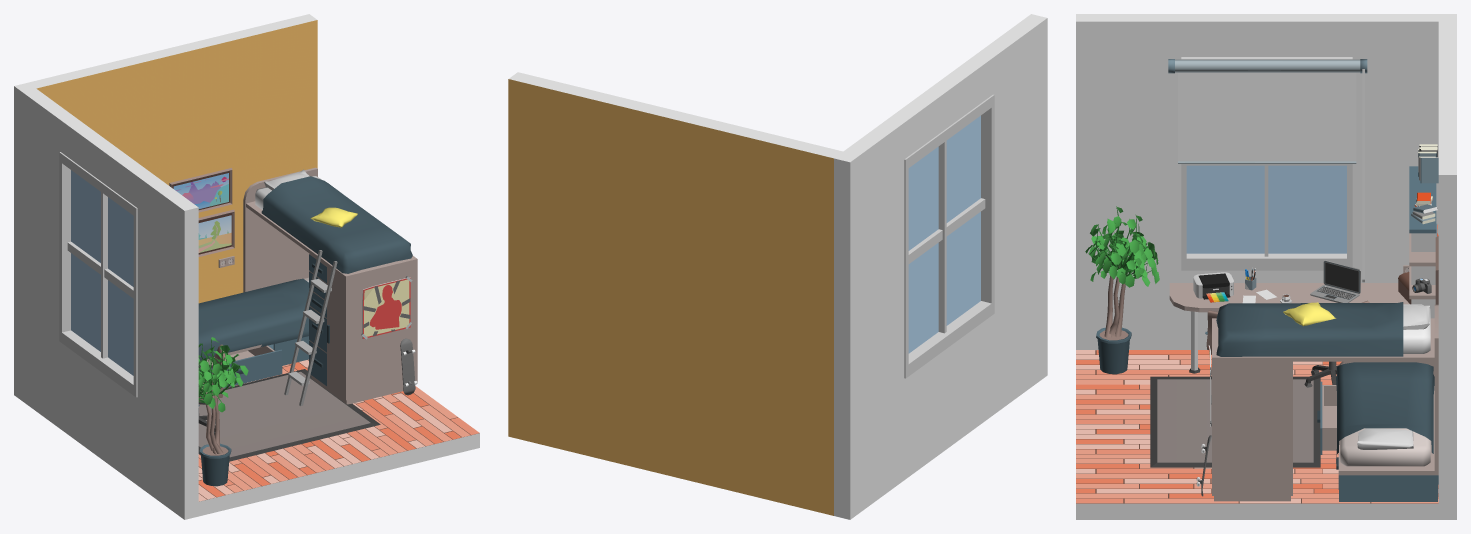
File: room_17.glb
3 views of the same model, side by side, from view 1: azimuth 30°, elevation 25°; view 2: azimuth 150°, elevation 25°; view 3: azimuth 270°, elevation 25° (orthographic). The views are drawn at different scales.
Parts seen in each view (by area): view 1: Walls_010.011, bed_019.001, Walls_006.008, Walls_006.009, window_008.002, floor_003.001, carpet_001.004, Walls_006.010, Walls_009.004, flower_027.002, Walls_006.011, picture_039.001 (+3 smaller); view 2: Walls_010.011, Walls_006.009, Walls_006.008, window_008.002, Walls_006.010, Walls_006.011; view 3: bed_019.001, Walls_006.008, Curtains_026.001, Walls_006.009, window_008.002, floor_003.001, Walls_009.004, Walls_010.011, carpet_001.004, Walls_006.011, office_table_037.002, flower_027.002 (+5 smaller).
Part boxes in pixels (x1,y1,x2,y2): Walls_010.011: (28,14,317,303); bed_019.001: (198,167,417,405); Walls_006.008: (136,172,198,519); Walls_006.009: (14,82,76,430); window_008.002: (59,152,137,397); floor_003.001: (198,359,479,501); carpet_001.004: (198,369,380,461); Walls_006.010: (62,344,135,483); Walls_009.004: (198,360,479,516); flower_027.002: (198,337,248,486); Walls_006.011: (62,118,149,206); picture_039.001: (361,276,412,339); Walls_010.011: (508,72,842,515); Walls_006.009: (834,117,906,519); Walls_006.008: (975,14,1047,416); window_008.002: (904,94,994,378); Walls_006.010: (906,316,990,478); Walls_006.011: (890,55,990,157); bed_019.001: (1212,302,1438,501); Walls_006.008: (1076,14,1184,350); Curtains_026.001: (1168,59,1367,282); Walls_006.009: (1348,14,1456,282); window_008.002: (1181,57,1352,270); floor_003.001: (1076,350,1438,503); Walls_009.004: (1076,350,1438,519); Walls_010.011: (1438,21,1456,519); carpet_001.004: (1150,376,1320,467); Walls_006.011: (1185,14,1347,56); office_table_037.002: (1169,166,1436,373); flower_027.002: (1085,206,1159,374).
Size of the model in its own units: 4.22 by 4.2 by 4.2.
1 material, 1 textured.
